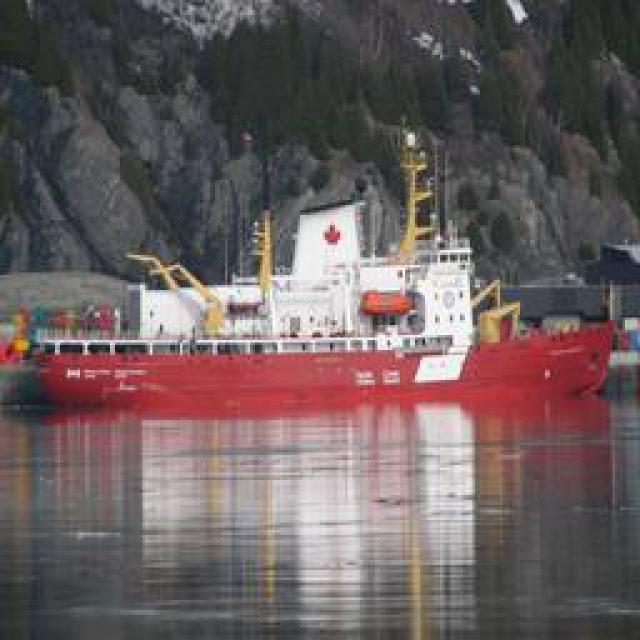Ship: (5, 252, 631, 419)
